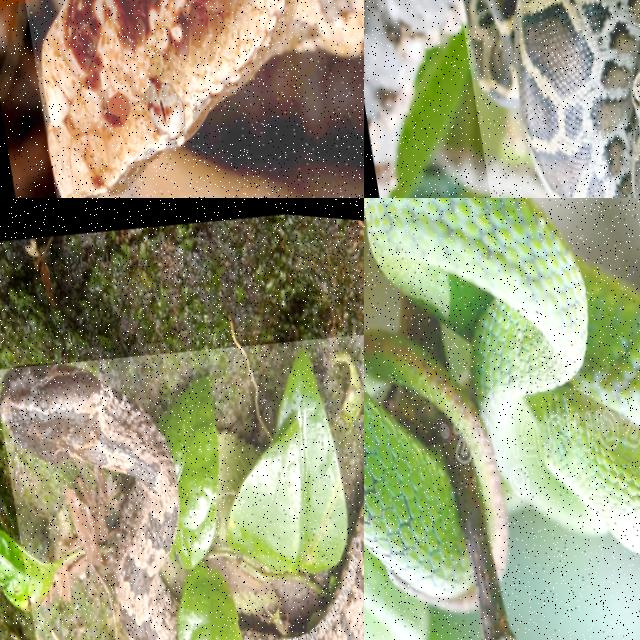Ovophis monticola: (41, 0, 363, 197), (0, 364, 178, 639)
Python bivittatus: (464, 0, 639, 197)
Trimeresurus macrops: (364, 198, 639, 639)
